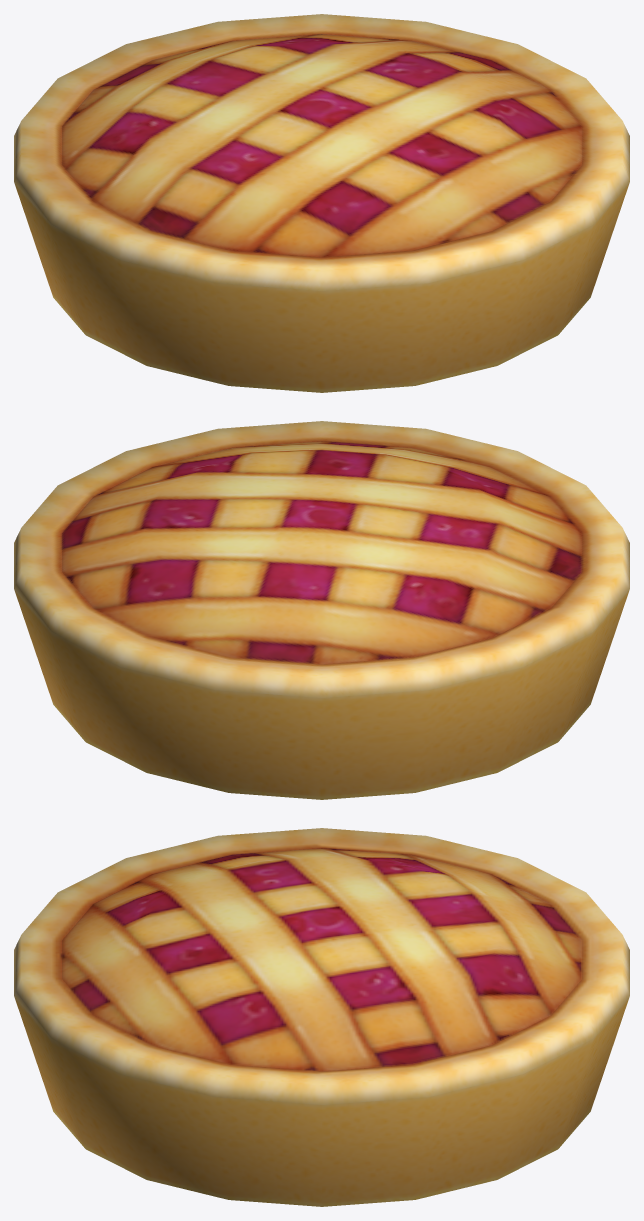
The model's file is SE_Pie_01.fbx.
3 views of the same model, one above another, from view 1: azimuth 30°, elevation 25°; view 2: azimuth 150°, elevation 25°; view 3: azimuth 270°, elevation 25° (orthographic).
Visible parts, largest first — view 1: SE_Pie_01; view 2: SE_Pie_01; view 3: SE_Pie_01.
Boxes of the visible parts, <box> form: SE_Pie_01: <box>14,14,629,392</box>; SE_Pie_01: <box>14,421,629,799</box>; SE_Pie_01: <box>14,828,629,1206</box>.
Size of the model in its own units: 2.57 by 0.7776 by 2.53.
